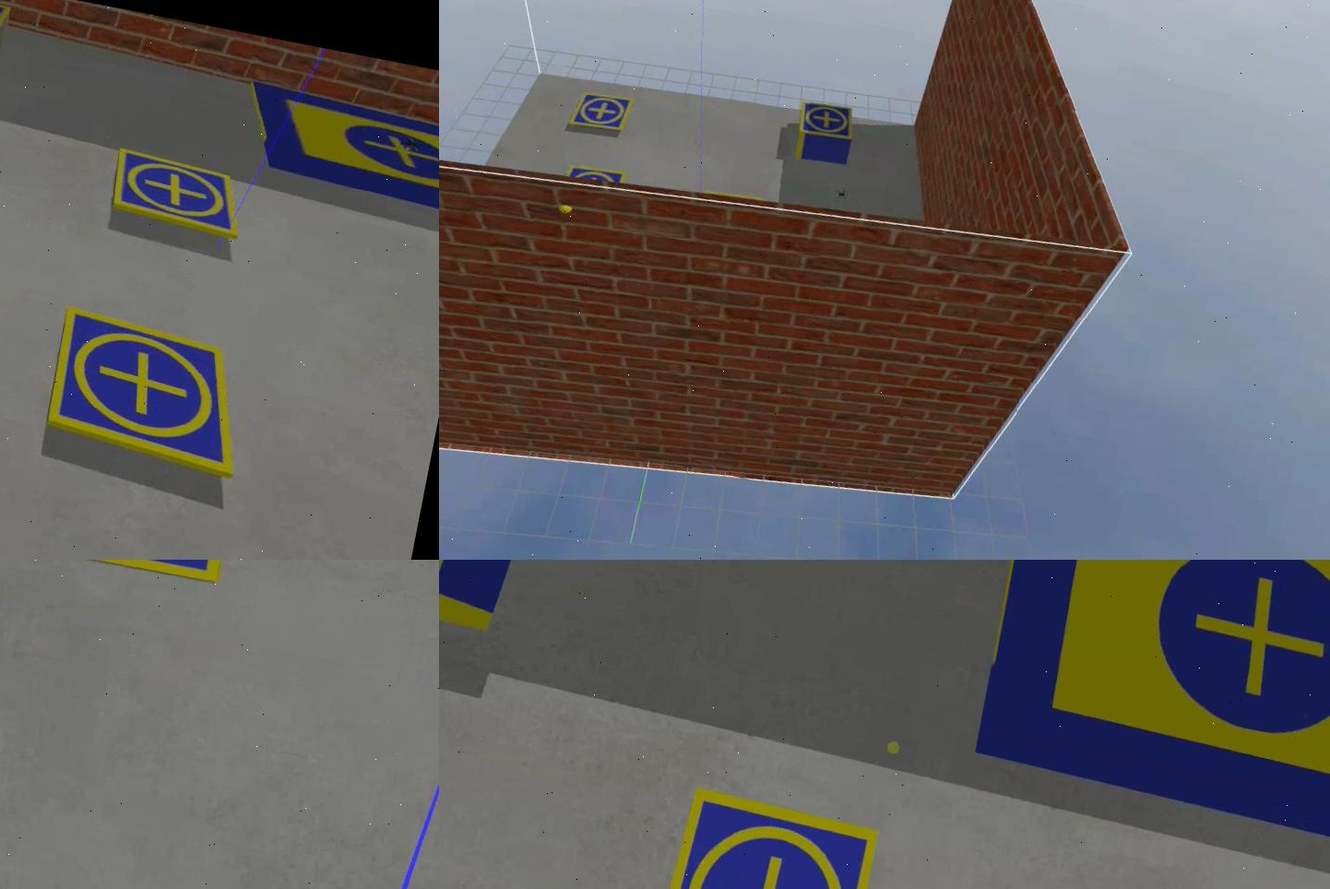large_base: (973, 561, 1328, 861), (236, 85, 437, 215)
small_base: (39, 310, 256, 483), (643, 787, 880, 889), (106, 146, 247, 238), (564, 86, 634, 139), (792, 96, 857, 145), (564, 161, 625, 190)
